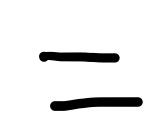eqv: (39, 50, 143, 112)
